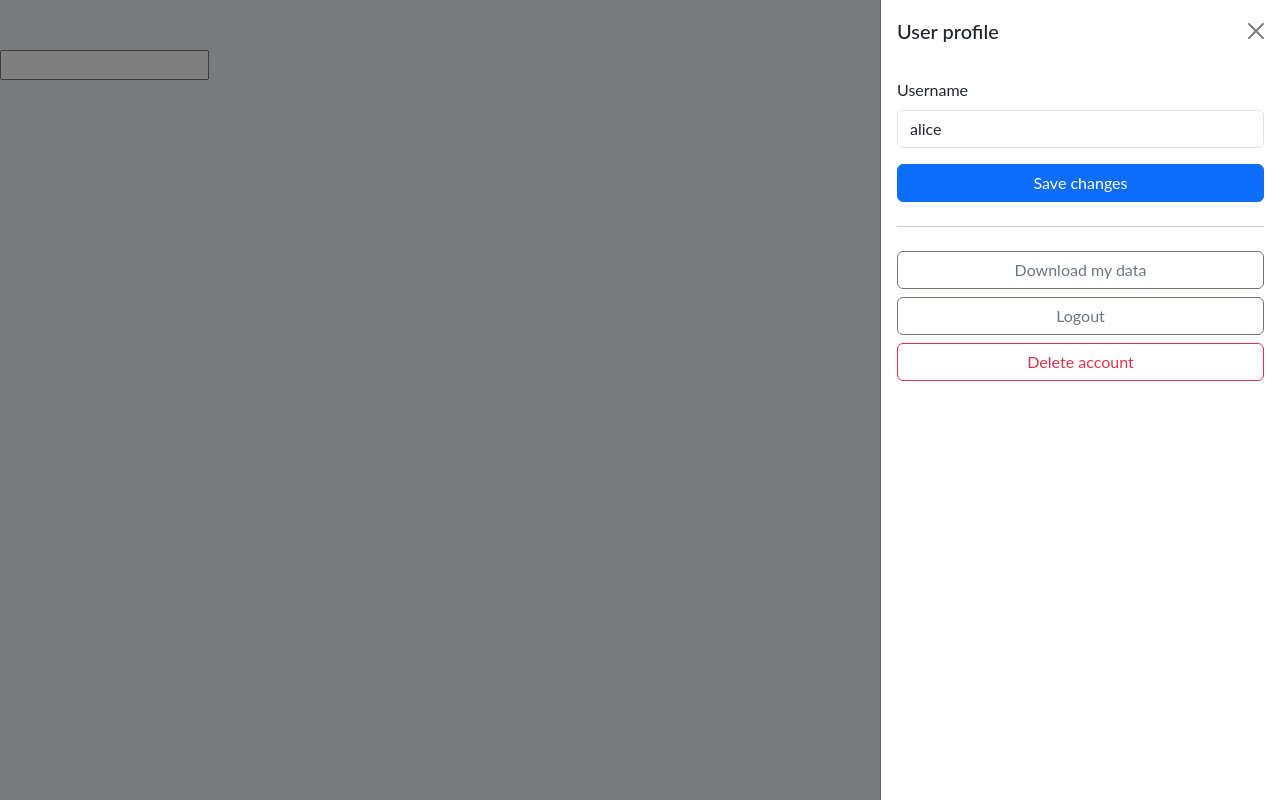
Test: UserProfileModal › logout › shows an error when logout fails
The width and height of the screenshot is (1280, 800).
Check: the field showing "alice" below "Username" is shown, box 897,110 -> 1264,148
Click the button "Logout" at (1080, 316), box 897,297 -> 1264,335
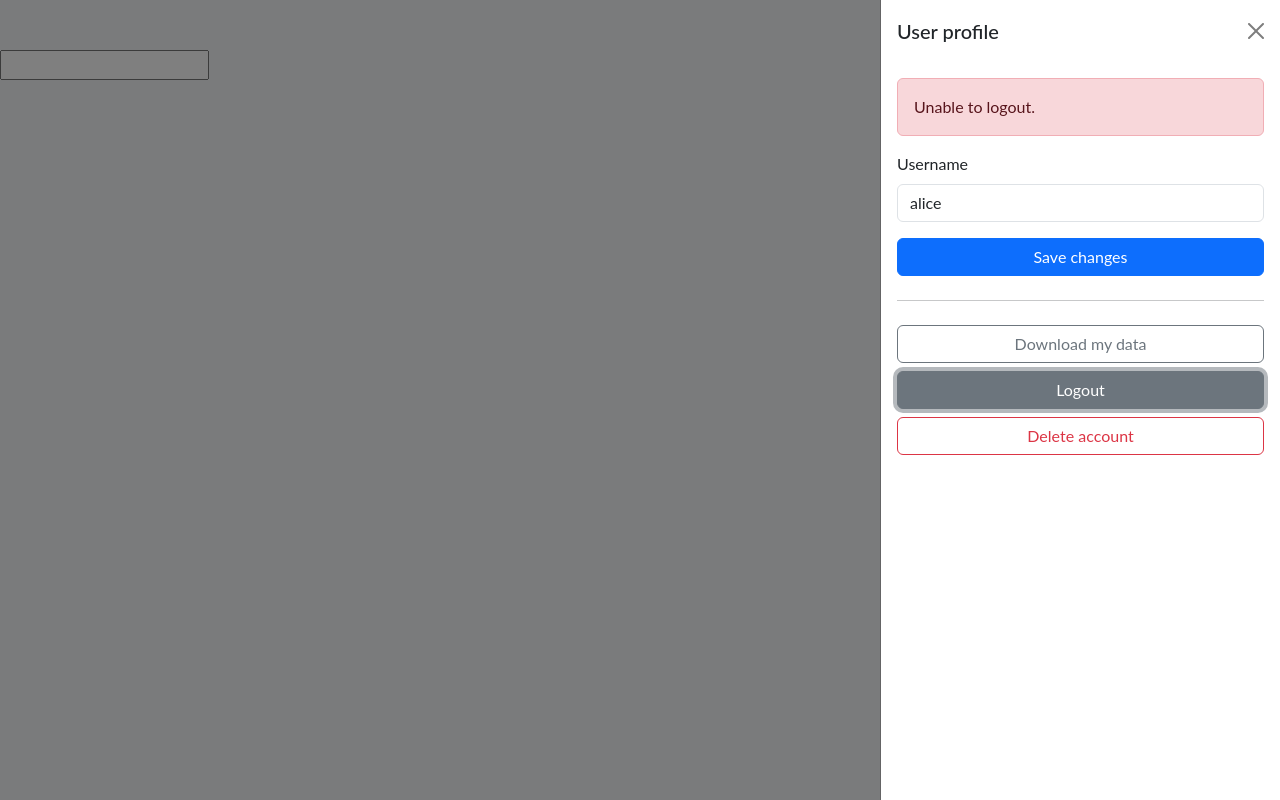
Check: the text "Unable to logout." is shown, box 897,78 -> 1264,136
